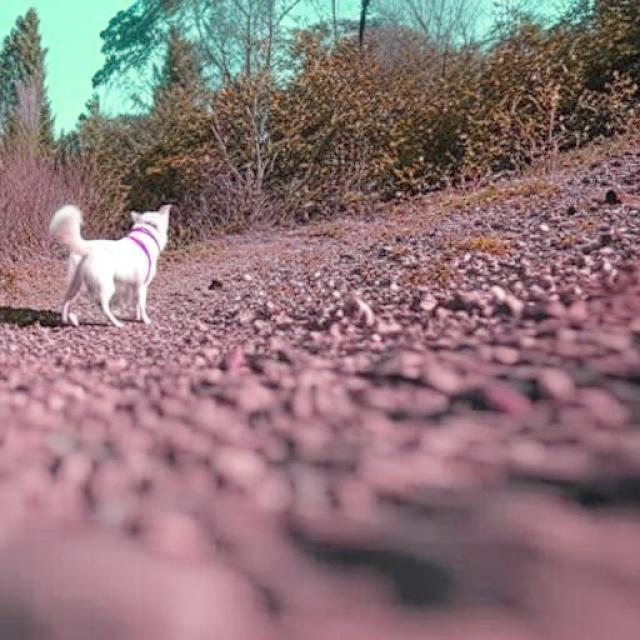Dog: (50, 206, 172, 328)
